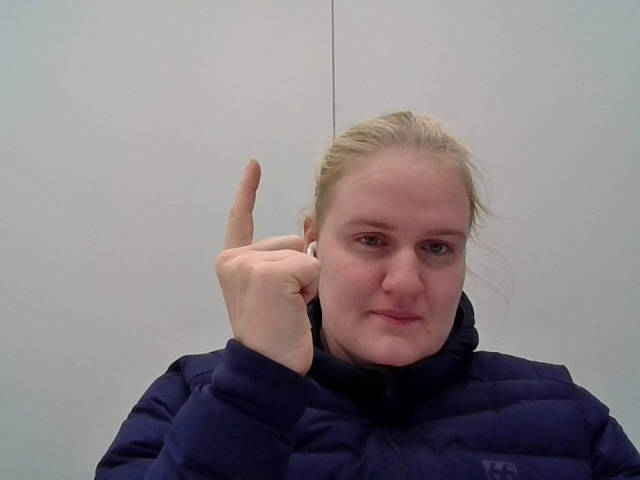up: (195, 149, 340, 384)
